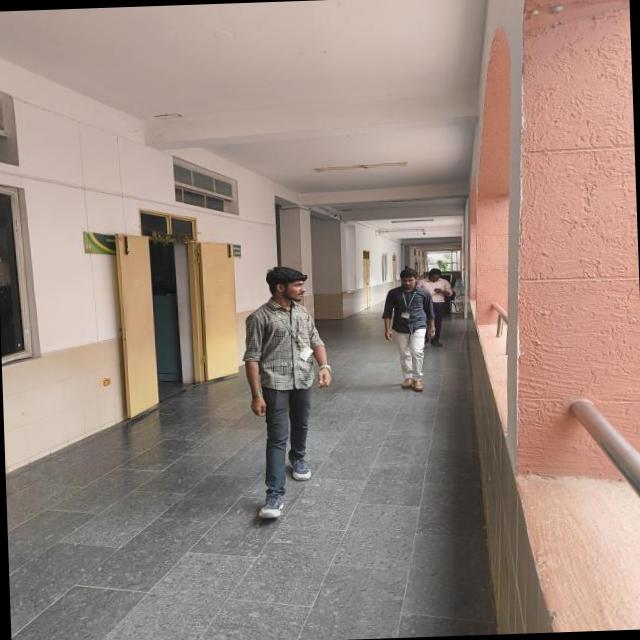id_card: (284, 304, 312, 367), (397, 290, 416, 324)
